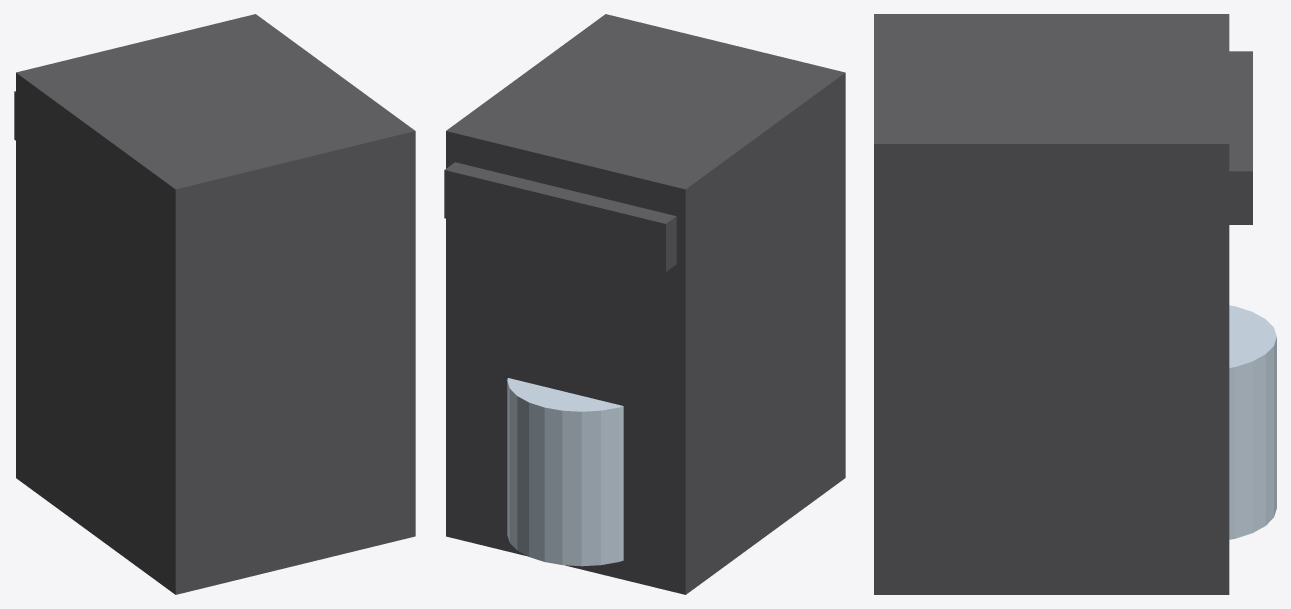
File: coffee_machine-PRIM-002.glb
The picture shows the model from 3 angles, left to right: view 1: azimuth 30°, elevation 25°; view 2: azimuth 150°, elevation 25°; view 3: azimuth 270°, elevation 25°; orthographic projection. The views are drawn at different scales.
Visible parts, largest first — view 1: p0; view 2: p0, p1, p2; view 3: p0, p1, p2.
Part boxes in pixels (<box>): p0: <box>16,14,415,594</box>; p0: <box>446,14,845,594</box>; p1: <box>507,378,623,566</box>; p2: <box>444,162,676,272</box>; p0: <box>874,14,1229,594</box>; p1: <box>1229,305,1276,539</box>; p2: <box>1229,51,1252,224</box>.
Size of the model in its own units: 0.26 by 0.42 by 0.34.
